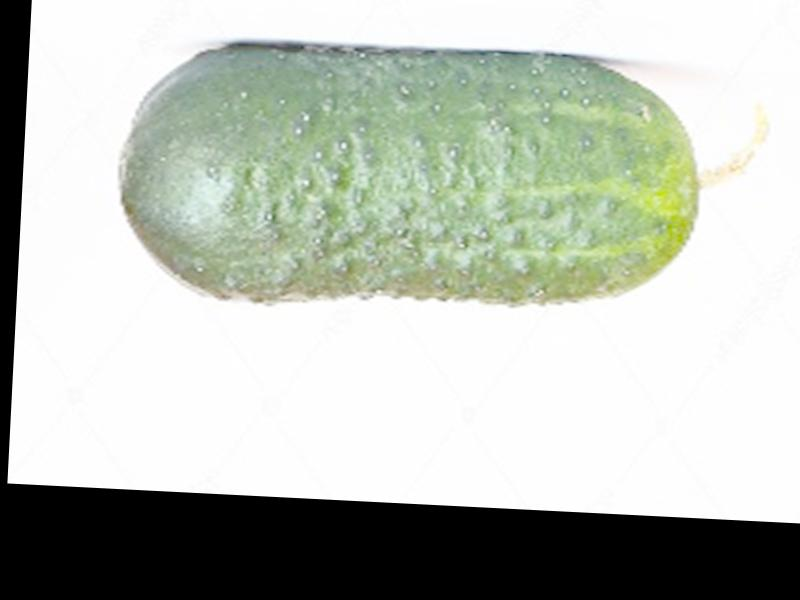Cucumber: (118, 36, 775, 325)
